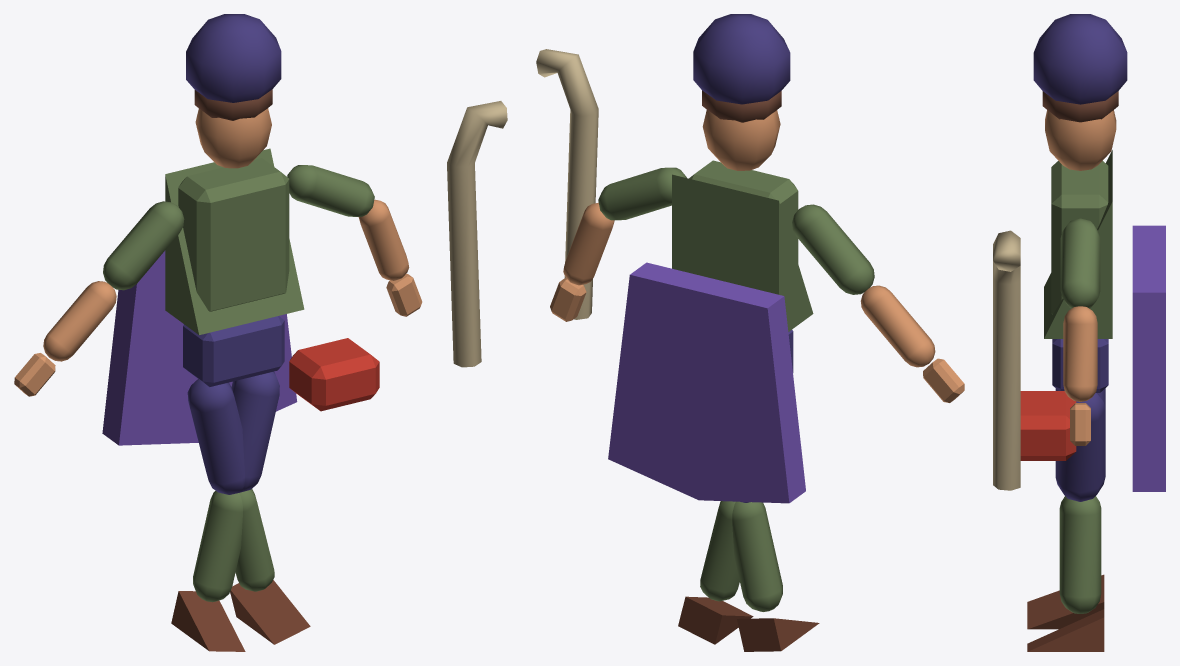
Rendered from adventurer.rustic.glb.
3 renders of one model, left to right at view 1: azimuth 30°, elevation 25°; view 2: azimuth 150°, elevation 25°; view 3: azimuth 270°, elevation 25°, orthographic.
Parts seen in each view (by area): view 1: torso, accessory.back, accessory.main-hand, accessory.head, tunic, pelvis, accessory.waist, thigh.left, shin.right, upper-arm.left, thigh.right, head (+9 smaller); view 2: accessory.back, tunic, accessory.head, accessory.main-hand, shin.right, upper-arm.left, head, forearm.left, upper-arm.right, torso, shin.left, forearm.right (+5 smaller); view 3: accessory.back, accessory.main-hand, accessory.head, shin.left, torso, accessory.waist, upper-arm.right, head, tunic, forearm.right, thigh.right, foot.left (+4 smaller).
Part boxes in pixels (x1,y1,x2,y2): torso: (178, 158, 289, 311); accessory.back: (102, 250, 297, 445); accessory.main-hand: (447, 101, 507, 367); accessory.head: (186, 14, 281, 102); tunic: (165, 148, 304, 335); pelvis: (183, 316, 284, 386); accessory.waist: (289, 338, 379, 411); thigh.left: (187, 379, 244, 494); shin.right: (193, 491, 242, 602); upper-arm.left: (103, 201, 184, 290); thigh.right: (231, 371, 279, 492); head: (195, 108, 271, 168); accessory.back: (608, 262, 805, 503); tunic: (672, 174, 813, 331); accessory.head: (693, 14, 790, 104); accessory.main-hand: (536, 49, 598, 319); shin.right: (732, 501, 782, 611); upper-arm.left: (792, 204, 874, 294); head: (702, 110, 780, 170); forearm.left: (860, 285, 935, 367); upper-arm.right: (598, 167, 686, 220); torso: (689, 160, 798, 263); shin.left: (700, 501, 739, 601); forearm.right: (563, 202, 614, 285); accessory.back: (1132, 225, 1165, 491); accessory.main-hand: (993, 230, 1020, 490); accessory.head: (1033, 14, 1127, 104); shin.left: (1059, 497, 1101, 613); torso: (1051, 161, 1108, 314); accessory.waist: (1020, 391, 1076, 460); upper-arm.right: (1060, 218, 1100, 308); head: (1045, 110, 1116, 170); tunic: (1044, 150, 1112, 338); forearm.right: (1063, 306, 1097, 401); thigh.right: (1055, 393, 1105, 501); foot.left: (1027, 609, 1104, 651).
Size of the model in its own units: 2.52 by 3.28 by 0.83.
